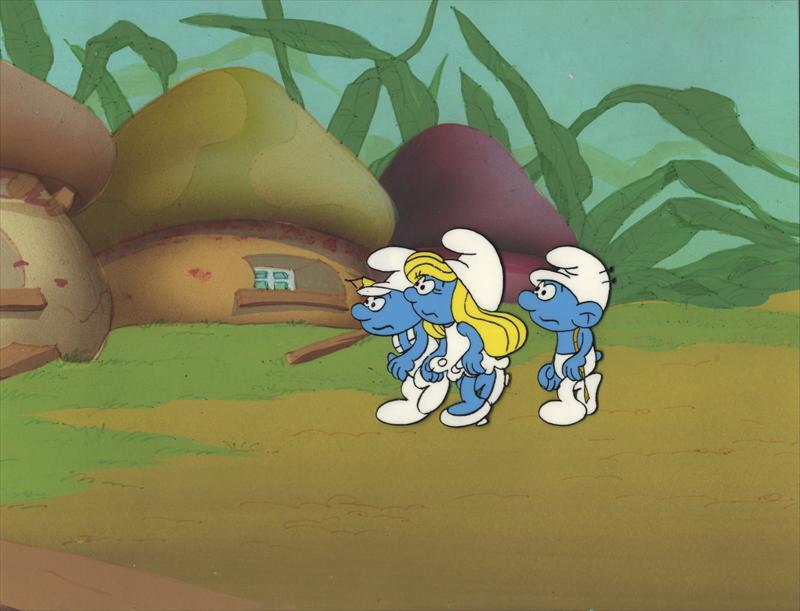smurf: (405, 225, 512, 429), (516, 246, 613, 428), (349, 246, 427, 425)
